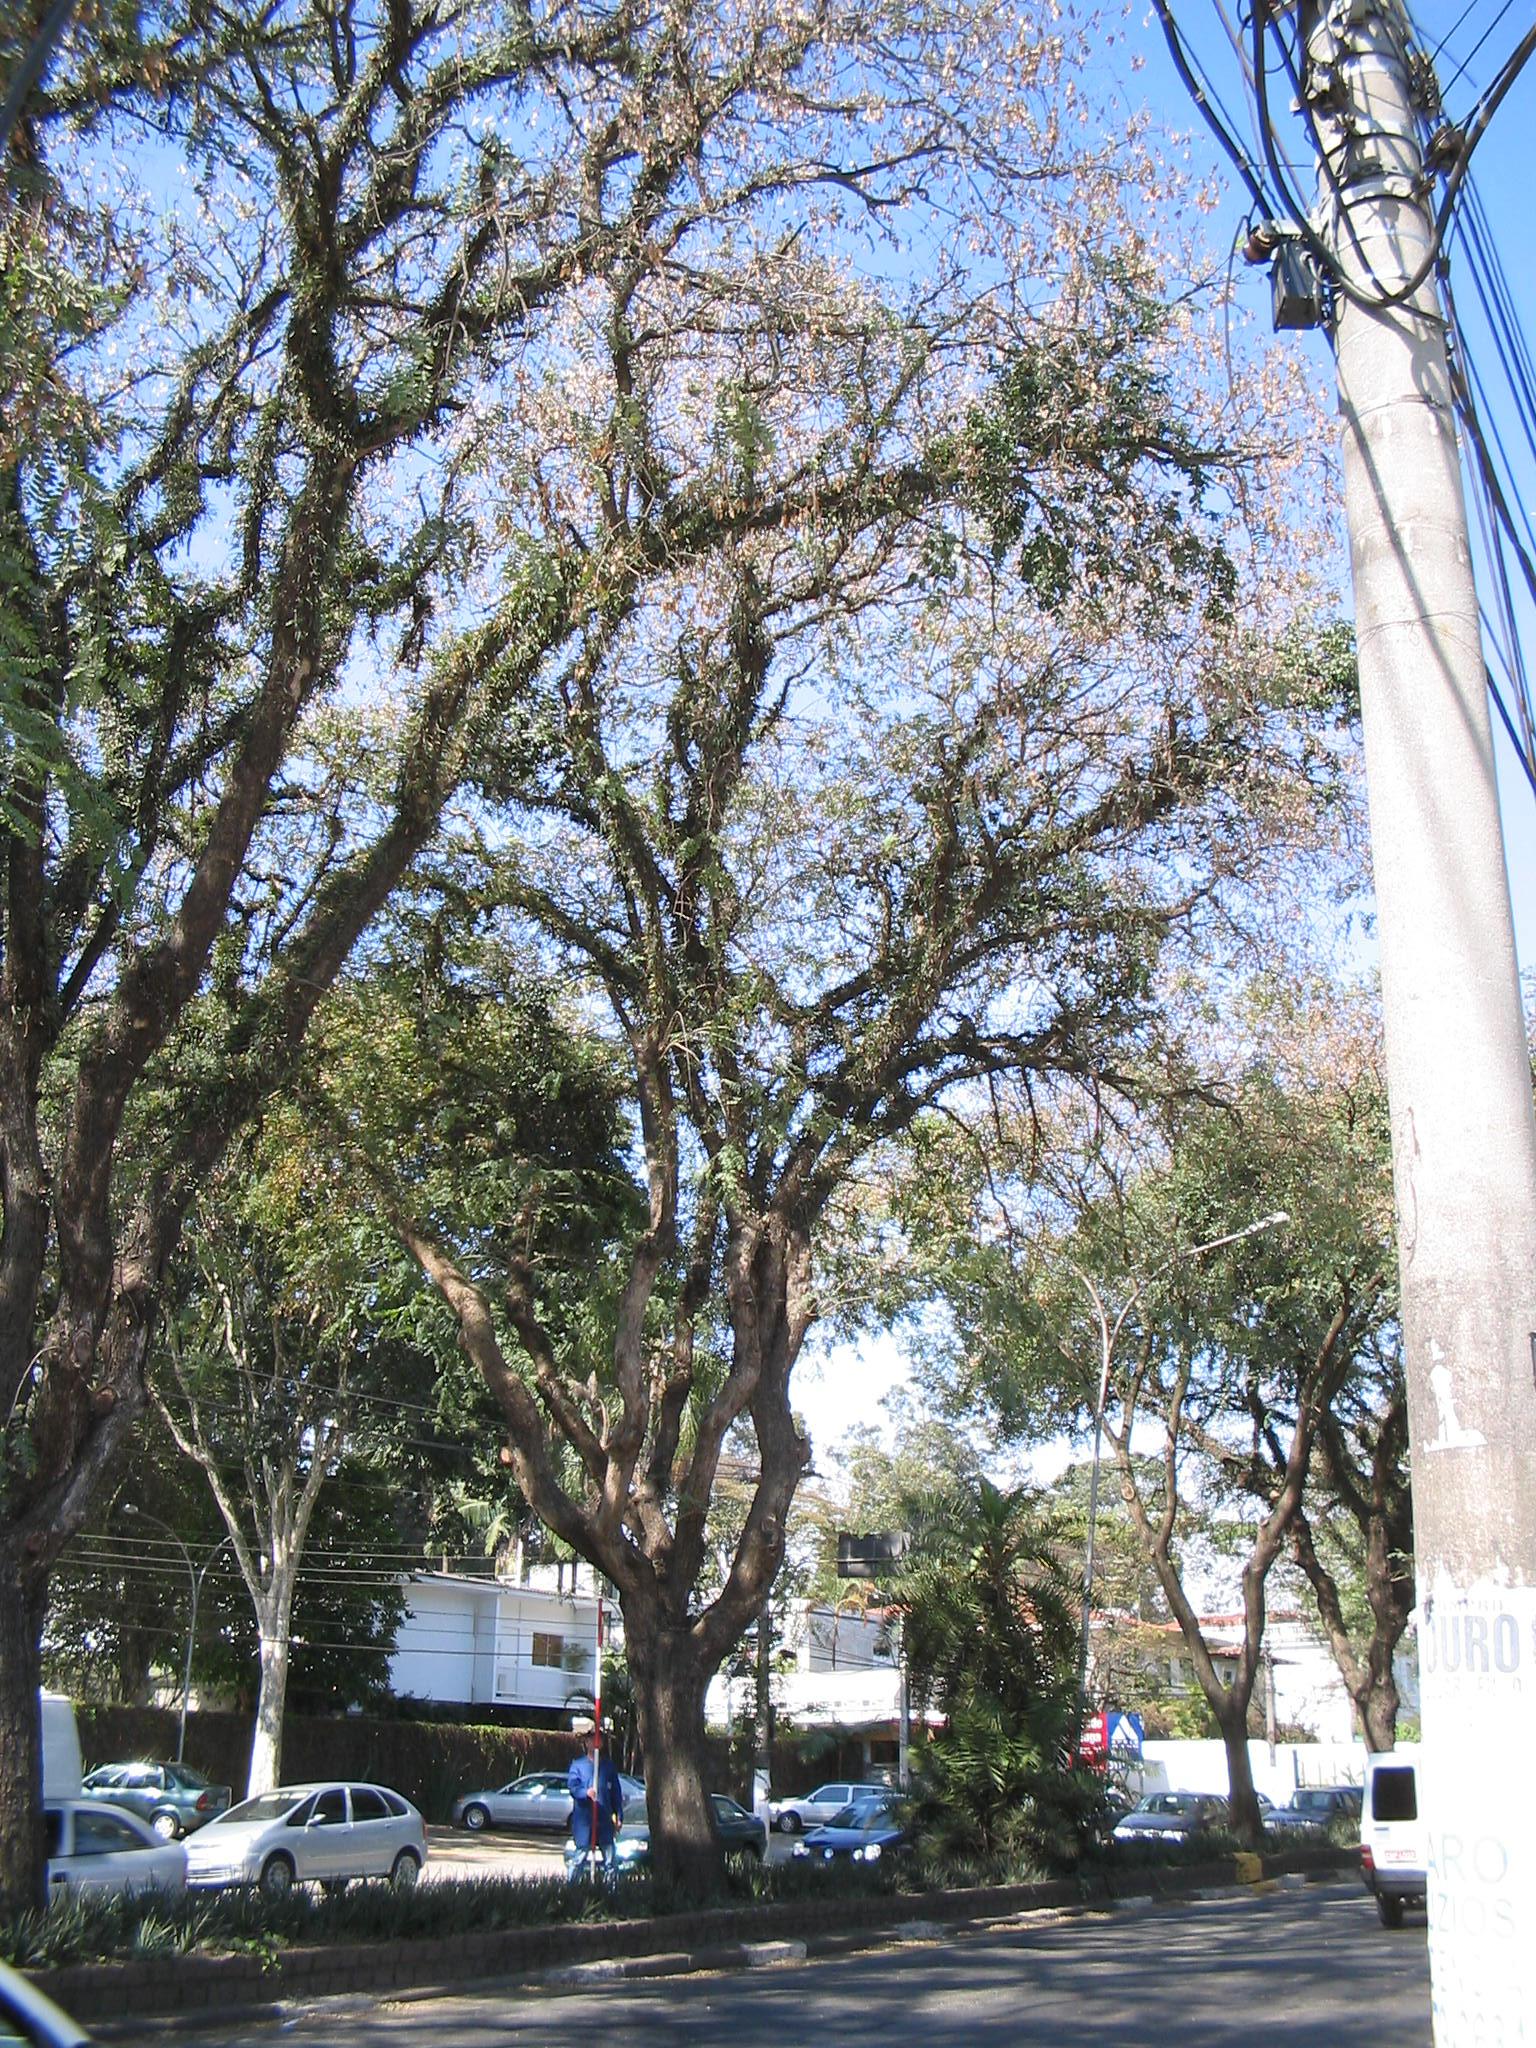stem: (2, 1480, 131, 1954), (623, 1642, 781, 1911), (224, 1617, 324, 1879)
stick: (574, 1590, 620, 1888)
tree: (2, 8, 1233, 1958), (261, 284, 1354, 1911)
